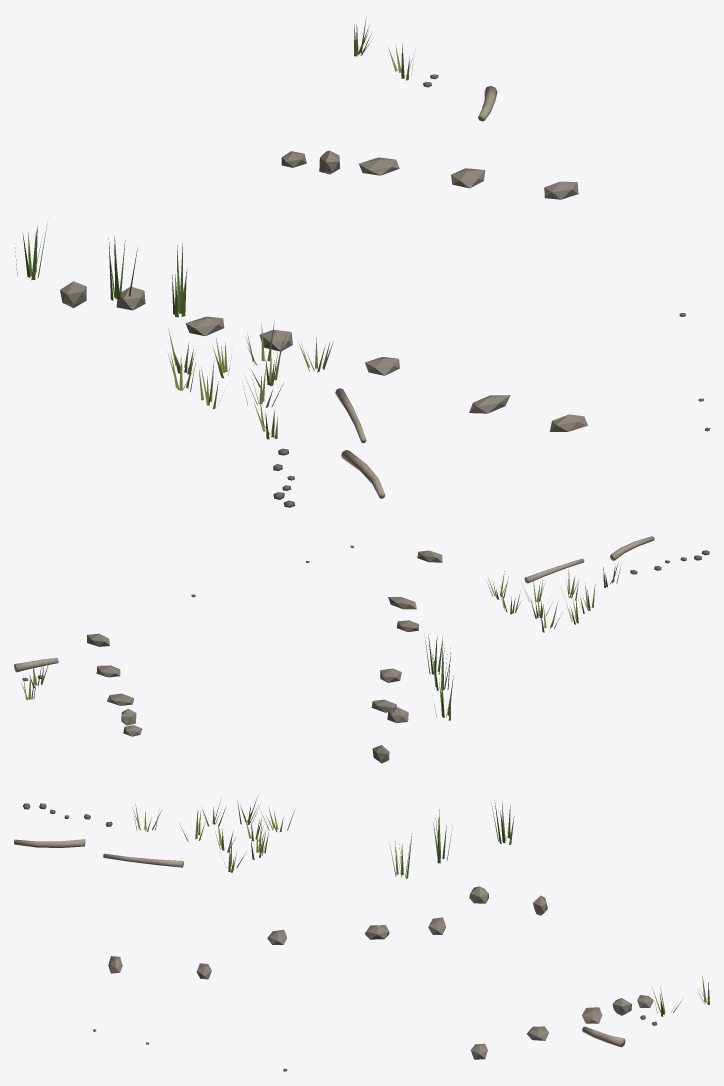
The model's file is river_mouth_l_center.glb.
3 renders of one model, top to bottom at view 1: azimuth 30°, elevation 25°; view 2: azimuth 150°, elevation 25°; view 3: azimuth 270°, elevation 25°, orthographic. The views are drawn at different scales.
Visible parts, largest first — view 1: river_mouth_l_center_lod0; view 2: river_mouth_l_center_lod0; view 3: river_mouth_l_center_lod0.
Boxes of the visible parts, box(x1,y1,x2,y2) form: river_mouth_l_center_lod0: box(14, 16, 709, 507); river_mouth_l_center_lod0: box(14, 536, 709, 763); river_mouth_l_center_lod0: box(14, 796, 709, 1071).
Size of what is drawn, in the model's own units: 15.12 by 3.1 by 19.95.
